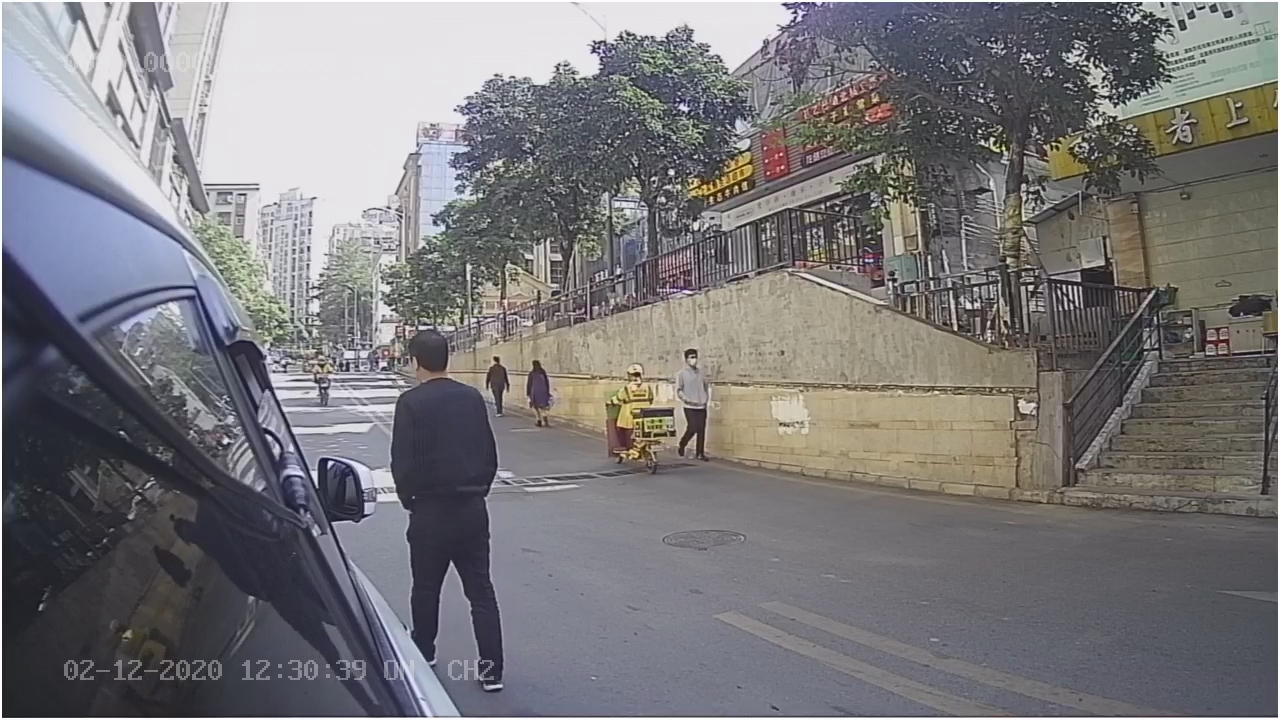person: (386, 331, 511, 659)
